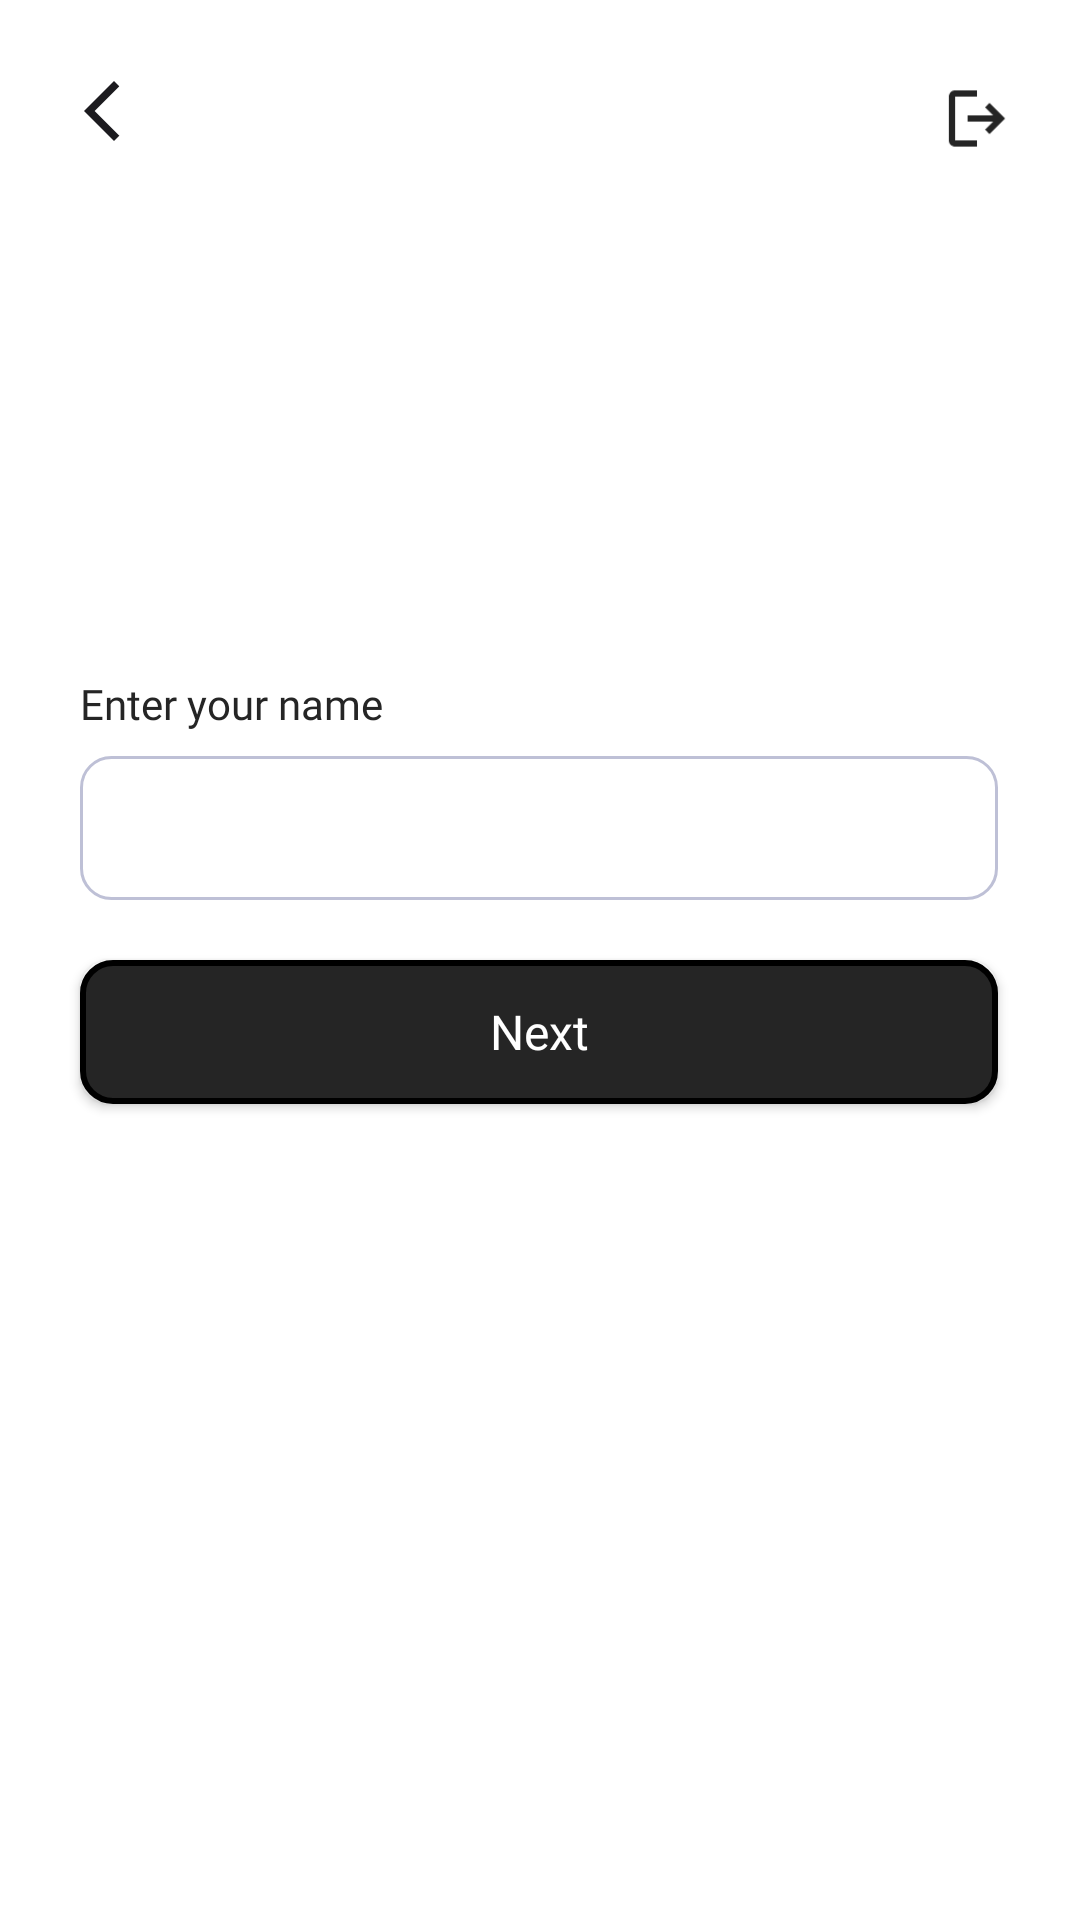

Icon bounding boxes for this 1080px×1920px phone screenshot, format [x1,y1,x2,y2]:
arrow back: [84,81,120,141]
